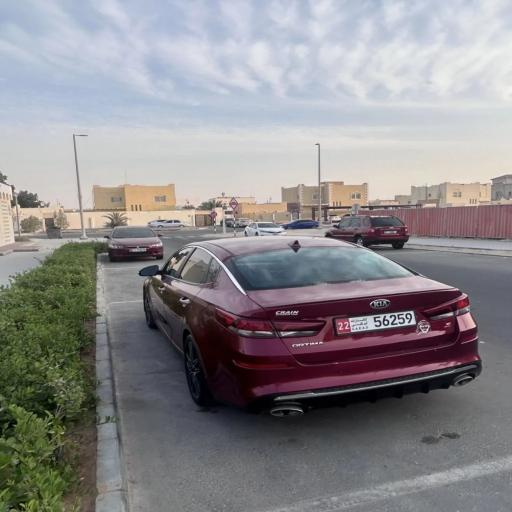license-plates: (335, 310, 416, 334), (129, 248, 146, 252), (384, 231, 397, 234)
